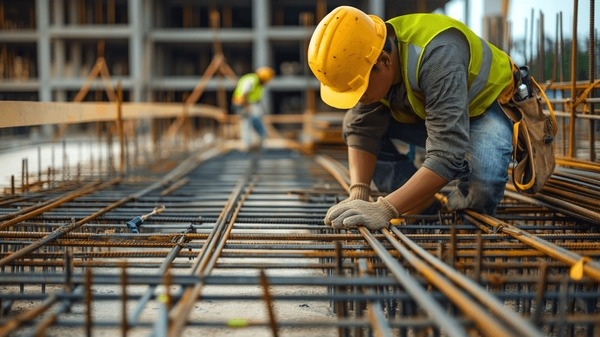jacket: (392, 9, 516, 127), (228, 69, 265, 117)
yellow_hat: (304, 10, 387, 114), (254, 64, 275, 83)
